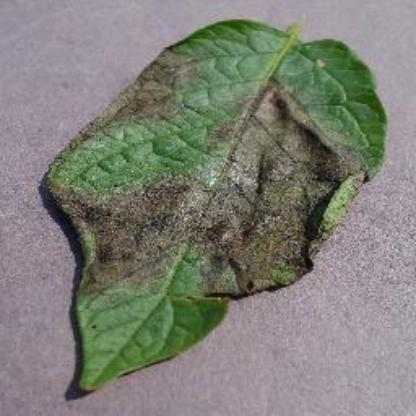Late-Blight: (13, 11, 402, 393)
